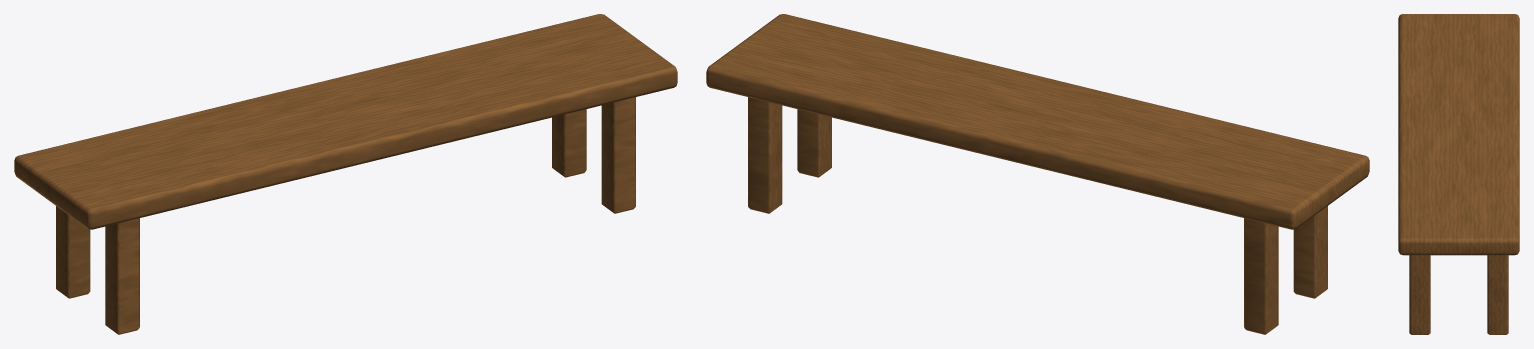
File: Furn_SchoolBench.fbx
3 views of the same model, side by side, from view 1: azimuth 30°, elevation 25°; view 2: azimuth 150°, elevation 25°; view 3: azimuth 270°, elevation 25° (orthographic). The views are drawn at different scales.
Parts seen in each view (by area): view 1: Furn_SchoolBench_Mesh; view 2: Furn_SchoolBench_Mesh; view 3: Furn_SchoolBench_Mesh.
Boxes of the visible parts, x1=… form: Furn_SchoolBench_Mesh: x1=14, y1=14, x2=677, y2=334; Furn_SchoolBench_Mesh: x1=706, y1=14, x2=1369, y2=334; Furn_SchoolBench_Mesh: x1=1398, y1=14, x2=1519, y2=334.
Bounding box in the file's own units: 2 × 0.45 × 0.45.
Materials: 1 (1 with a texture image).
